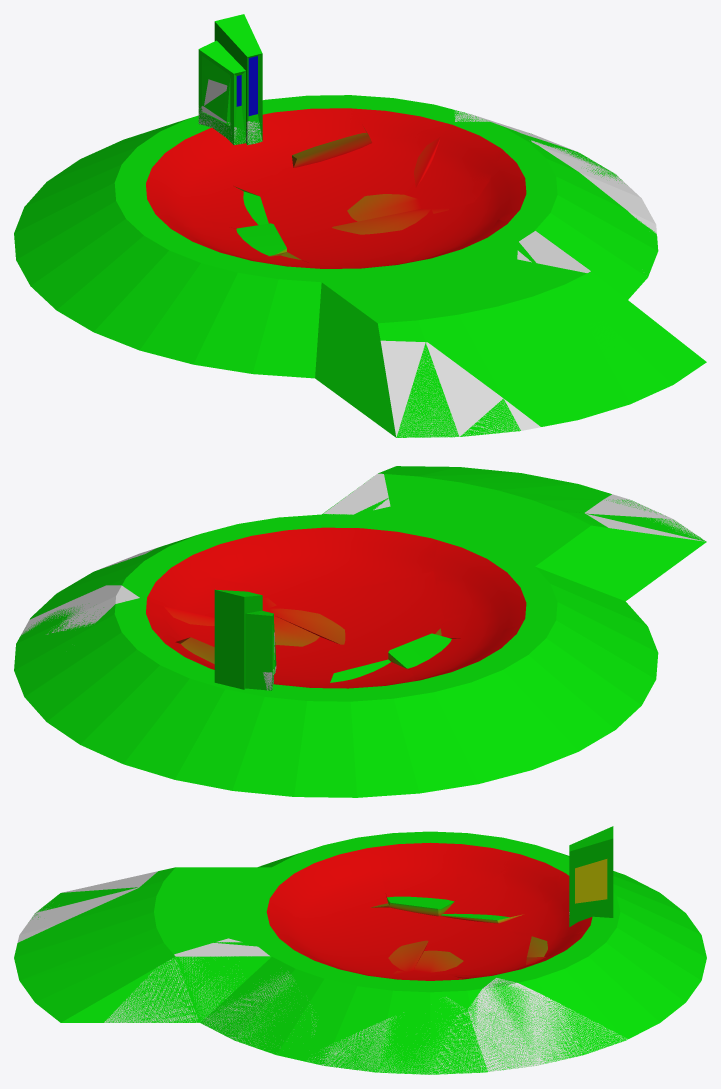
The model's file is Purifier.fbx.
3 renders of one model, top to bottom at view 1: azimuth 30°, elevation 25°; view 2: azimuth 150°, elevation 25°; view 3: azimuth 270°, elevation 25°, orthographic. The views are drawn at different scales.
Visible parts, largest first — view 1: Base, SecondarEmitter, PrimaryEmitter; view 2: Base, PrimaryEmitter, SecondarEmitter; view 3: Base, PrimaryEmitter.
Part boxes in pixels (x1,y1,x2,y2): Base: [14, 95, 706, 437]; SecondarEmitter: [198, 40, 245, 145]; PrimaryEmitter: [214, 14, 262, 145]; Base: [14, 466, 706, 797]; PrimaryEmitter: [214, 589, 262, 689]; SecondarEmitter: [245, 610, 276, 690]; Base: [14, 831, 706, 1074]; PrimaryEmitter: [569, 826, 613, 926].
Bounding box in the file's own units: 18.9 × 4.73 × 23.66.
